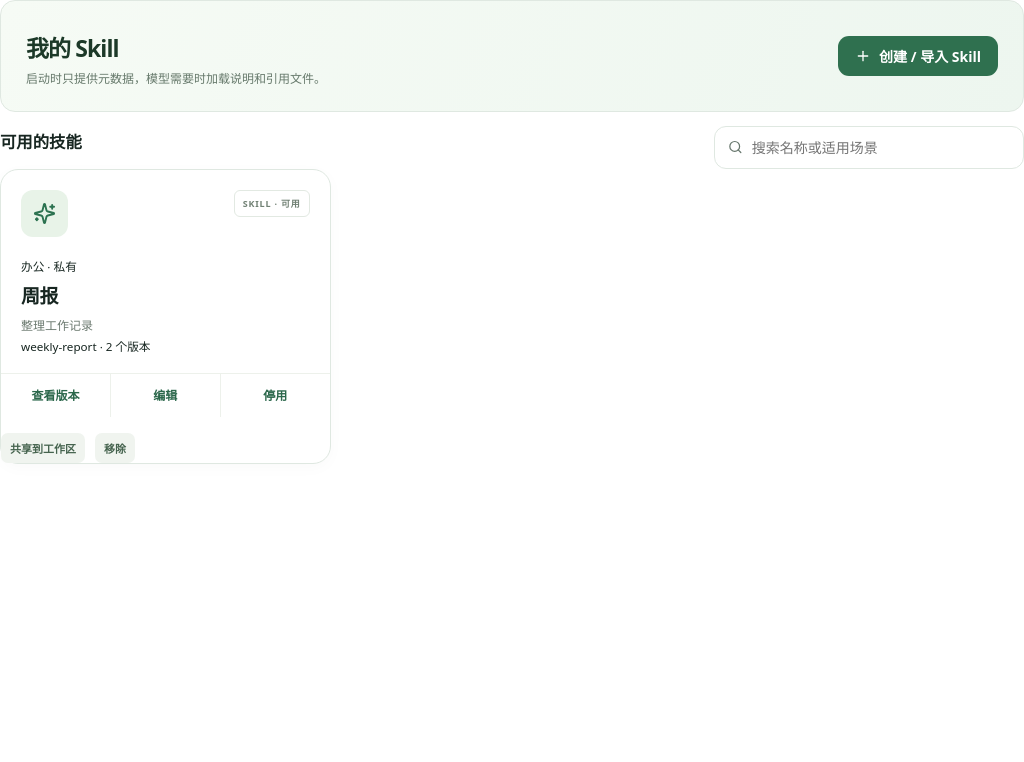
Test: Skill 管理及绑定 › 放弃修改后版本加载失败时仍还原原内容，避免把未保存内容标成已保存
The image size is (1024, 762).
Expected: the heading "周报" is shown, [21,283,58,309]
Click the button "编辑" at (165, 395), box [110,374,220,417]
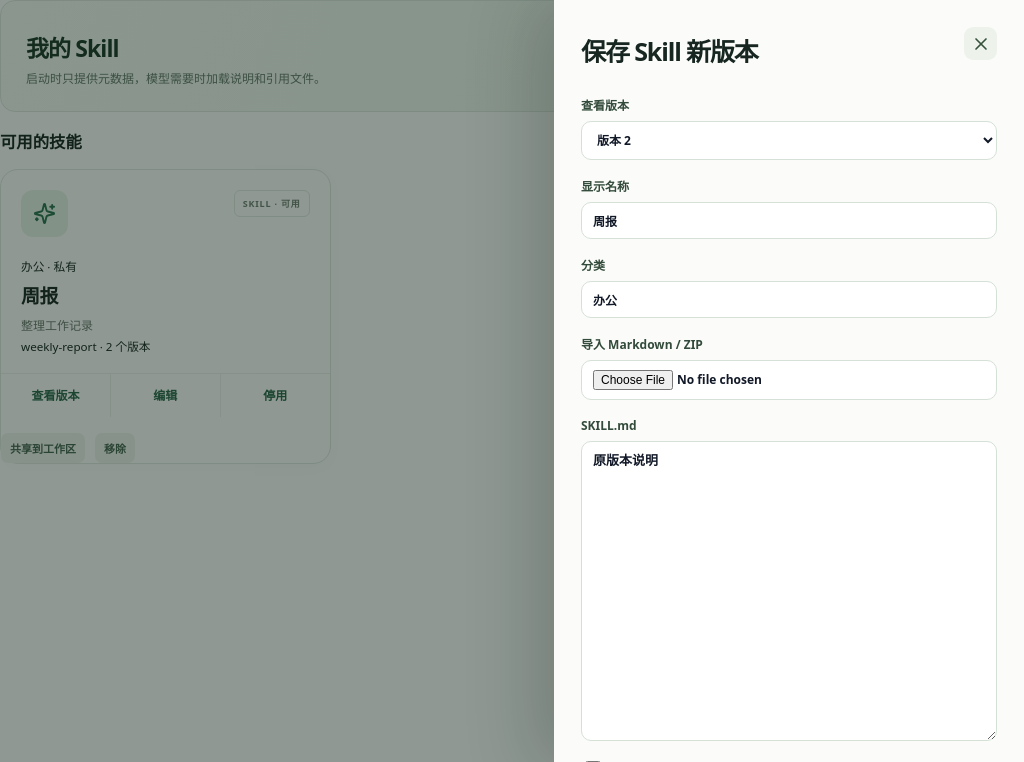
Expected: the text box showing "原版本说明" is shown
Replace the text in the text box labelled "SKILL.md" with "未保存的修改" at (789, 591), box [581,441,997,741]
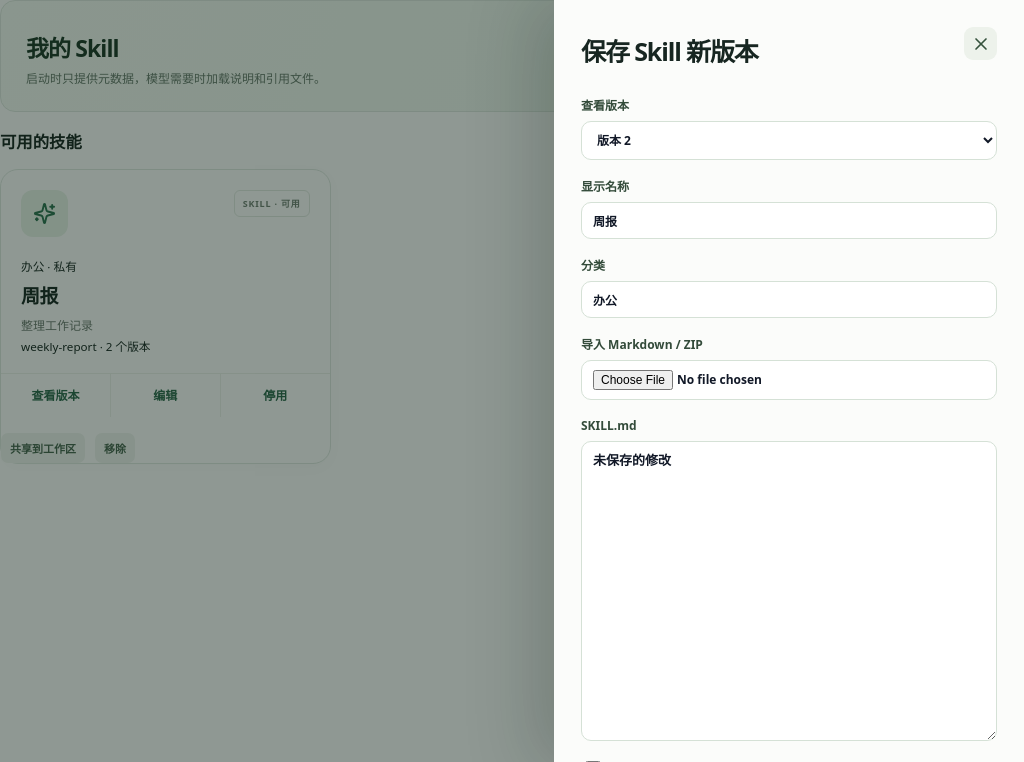
Select "版本 1" in the dropdown labelled "查看版本" at (789, 140), box [581,121,997,160]
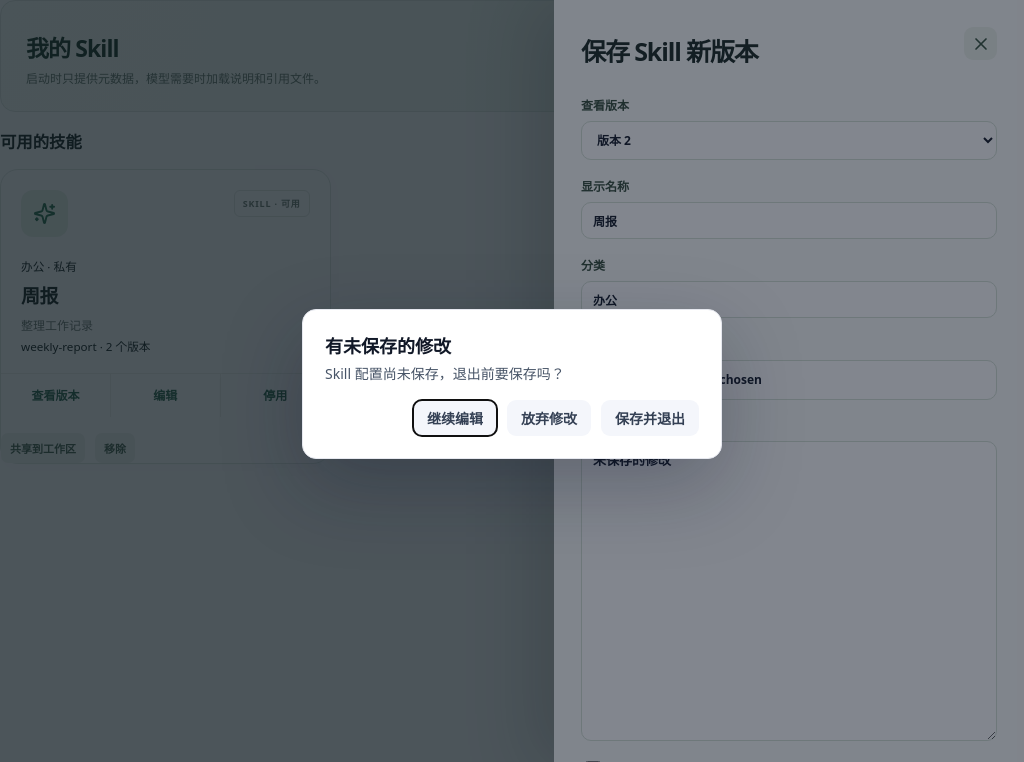
Click the button "放弃修改" at (549, 418), box [507,400,591,436]
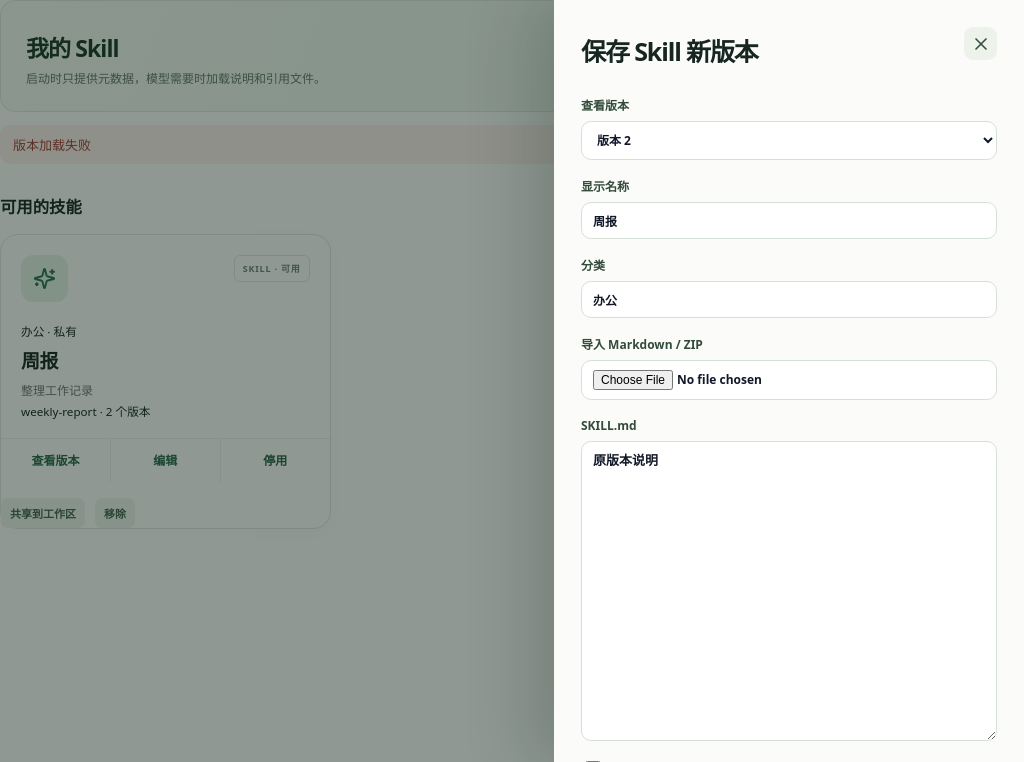
Expected: the text "版本加载失败" is shown, [0,125,1023,164]
Expected: the text box labelled "SKILL.md" holds "原版本说明", [581,441,997,741]
